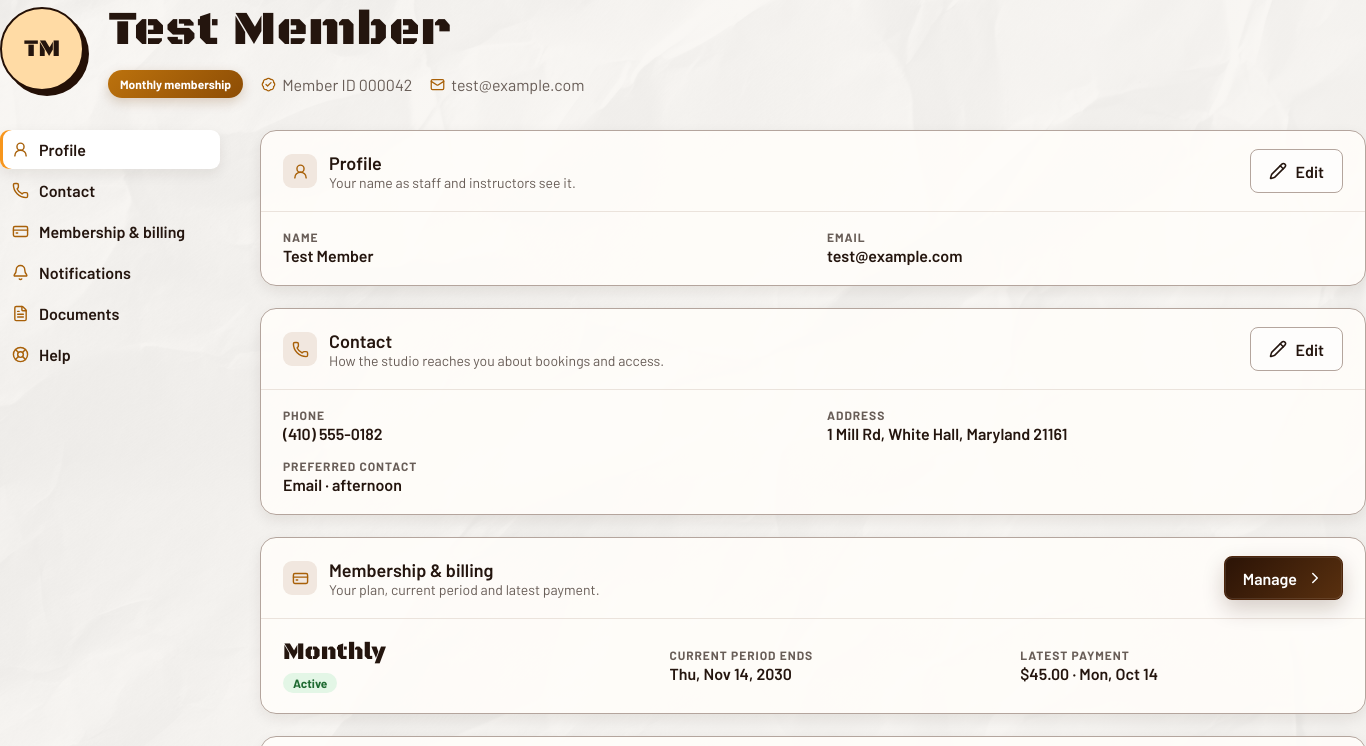
Test case: a failed section does not block a queued save or discard its own draft
Click the button with aria-label "Edit profile".
click(1296, 171)  # box x1=1250 y1=149 x2=1343 y2=193
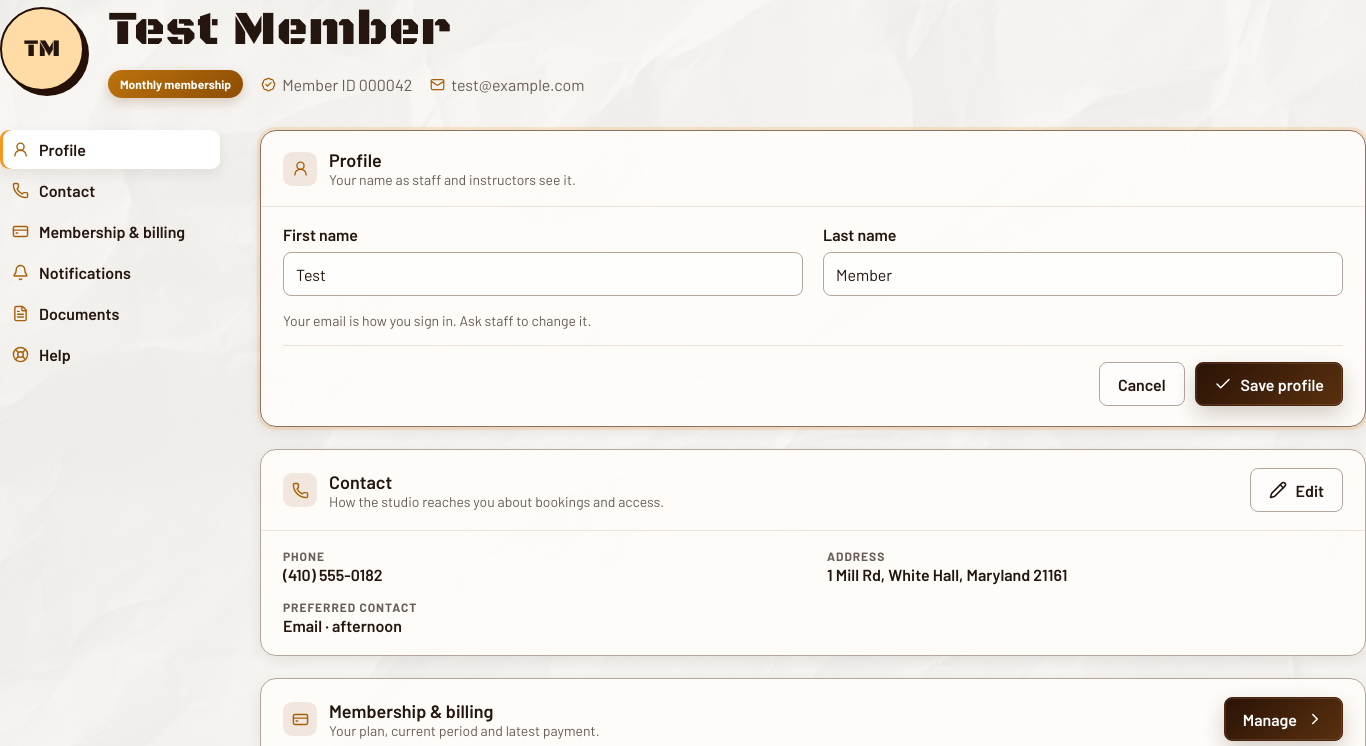
Click the button with aria-label "Edit contact".
click(1296, 490)  # box x1=1250 y1=468 x2=1343 y2=512
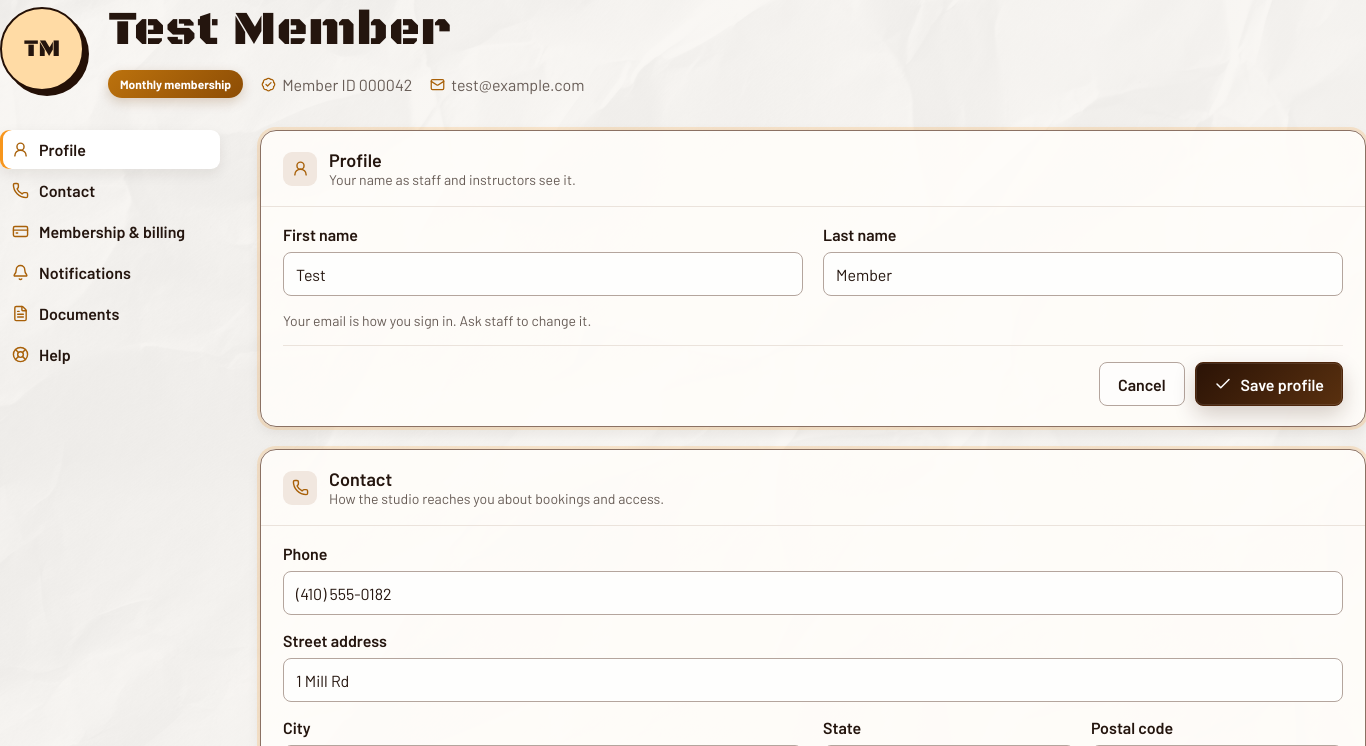
Replace the text in the field labelled "First name" with "Keep my draft" at {"x": 543, "y": 274}, box x1=283 y1=252 x2=803 y2=296
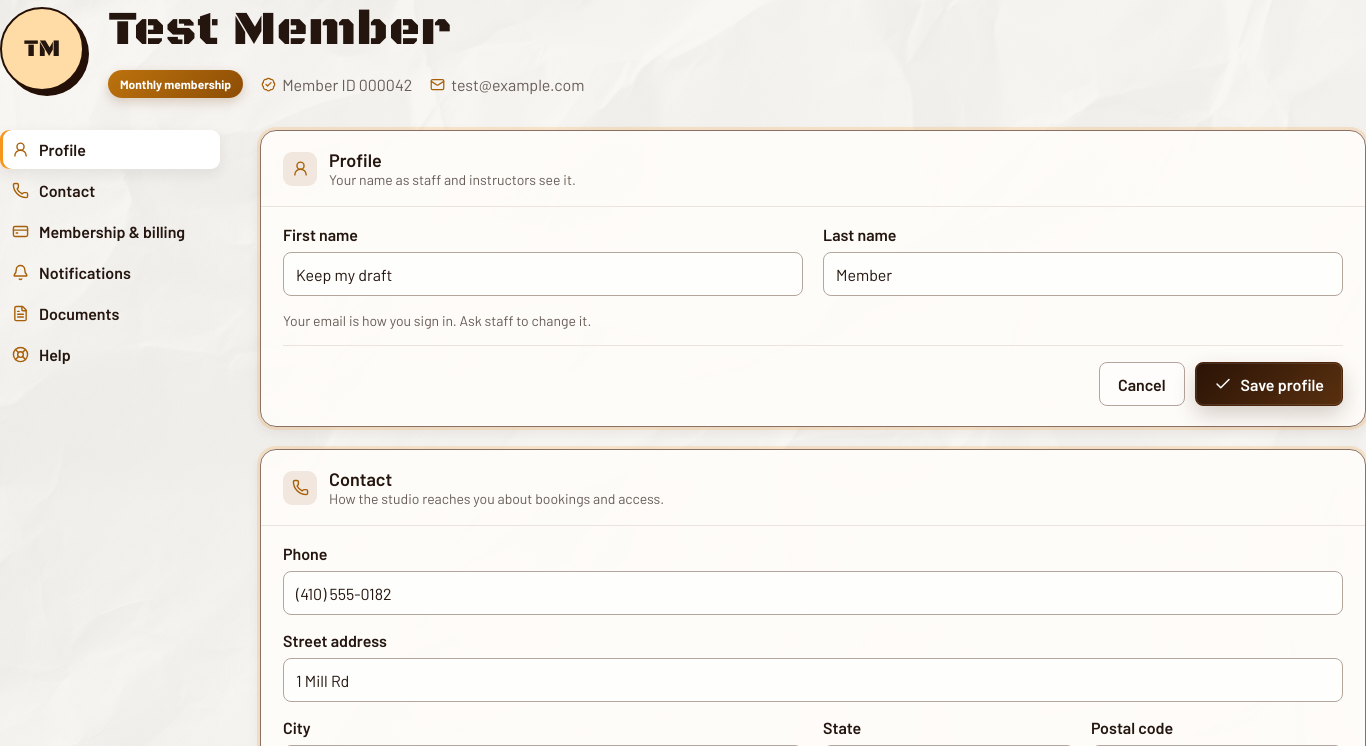
Click the button "Save profile".
click(1269, 384)  # box x1=1195 y1=362 x2=1343 y2=406
(page scrolled)
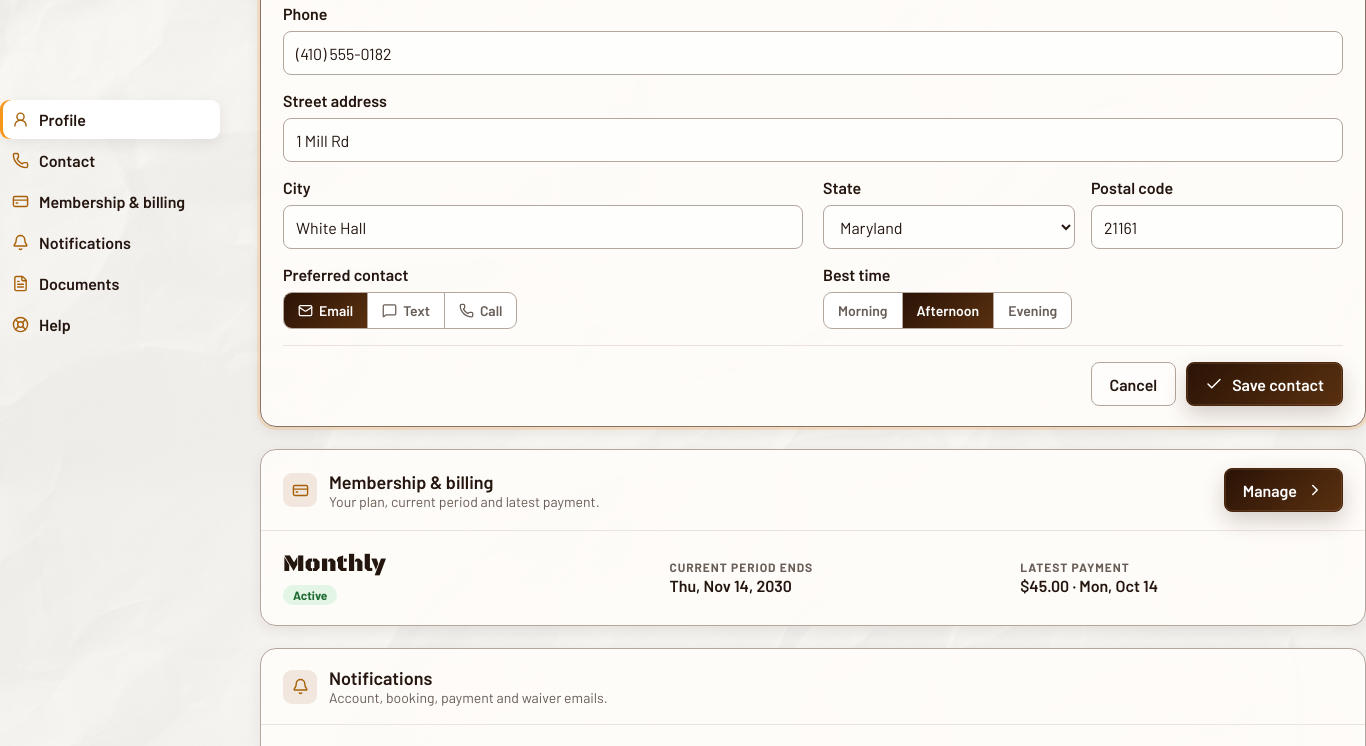
Click the button "Save contact".
click(1265, 384)  # box x1=1186 y1=362 x2=1343 y2=406
(page scrolled)
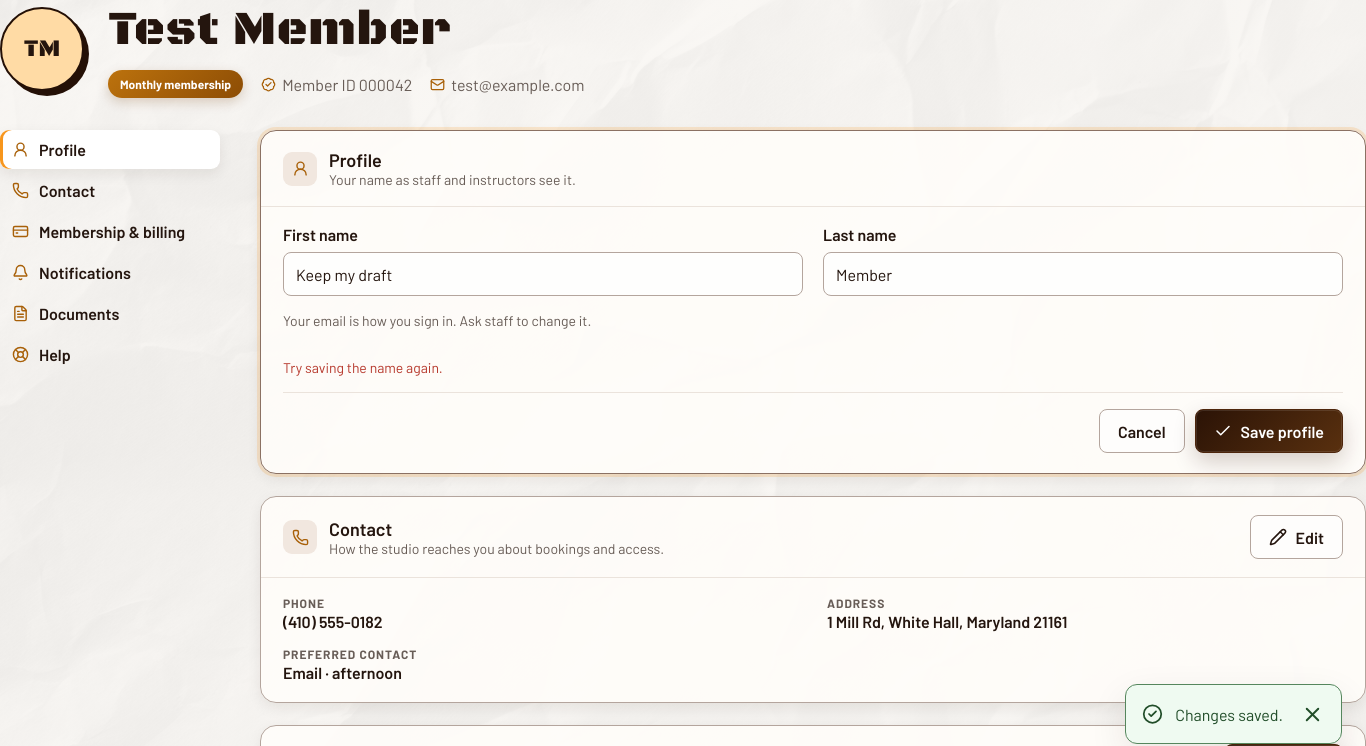
Expected: the message "Try saving the name again." is shown, x1=283 y1=359 x2=443 y2=376
Expected: the button "Save contact" is gone
